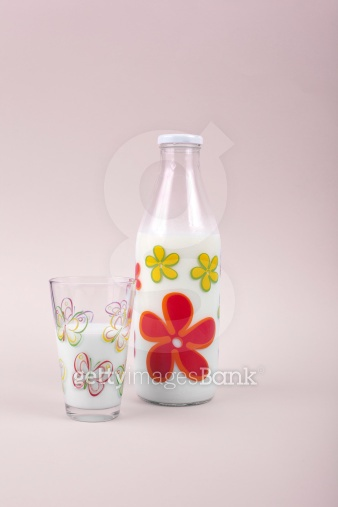glass of milk: (135, 133, 225, 412), (44, 268, 138, 426)
